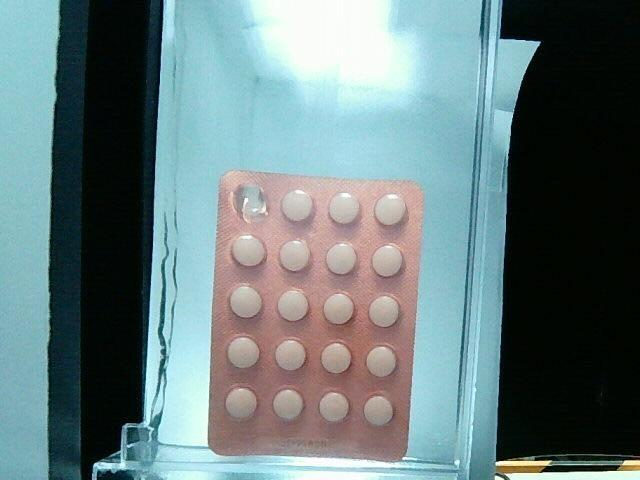Light Front: (207, 170, 425, 464)
No Pill Front: (229, 180, 271, 223)
Pill Front: (226, 231, 273, 278), (319, 235, 362, 282), (315, 288, 358, 334), (366, 290, 406, 338), (269, 290, 315, 330), (224, 281, 266, 323), (276, 184, 317, 227), (220, 384, 262, 425), (278, 234, 313, 282), (225, 335, 265, 376), (313, 386, 353, 427), (363, 386, 398, 432), (370, 243, 410, 283), (324, 191, 362, 232), (268, 388, 310, 425), (364, 343, 401, 383), (273, 343, 313, 379), (374, 193, 409, 234), (319, 343, 356, 379)
